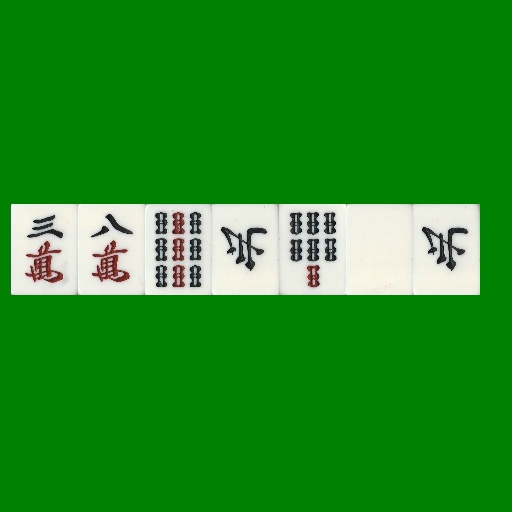3m: (11, 204, 78, 295)
7s: (279, 204, 346, 295)
8m: (78, 204, 145, 295)
9s: (145, 204, 212, 295)
north: (212, 204, 279, 295), (413, 204, 480, 295)
white: (346, 204, 413, 295)
